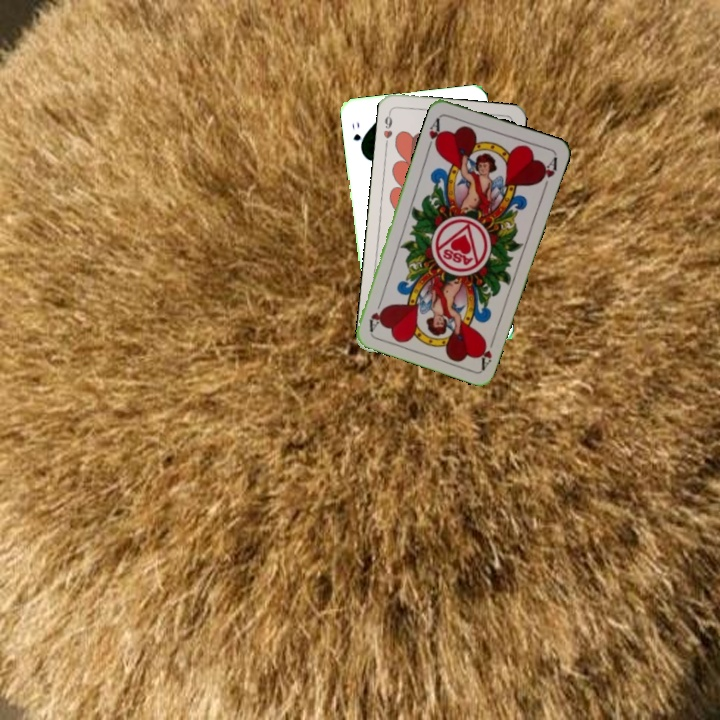GO: (348, 118, 366, 153)
H9: (379, 108, 395, 148)
HA: (475, 331, 498, 371), (423, 113, 445, 153)
